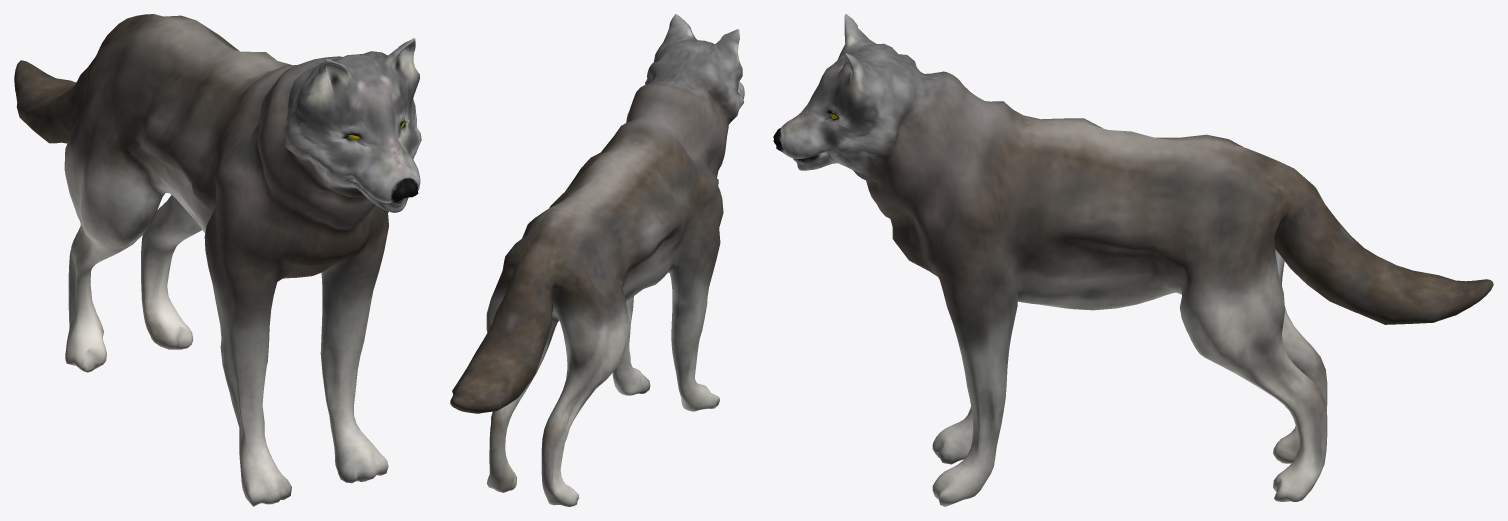
File: wolf.obj
The picture shows the model from 3 angles, left to right: view 1: azimuth 30°, elevation 25°; view 2: azimuth 150°, elevation 25°; view 3: azimuth 270°, elevation 25°; orthographic projection. The views are drawn at different scales.
Visible parts, largest first — view 1: wolf_Group50196; view 2: wolf_Group50196; view 3: wolf_Group50196.
Part boxes in pixels (x1=…): wolf_Group50196: x1=14, y1=14, x2=421, y2=506; wolf_Group50196: x1=450, y1=14, x2=744, y2=506; wolf_Group50196: x1=773, y1=14, x2=1493, y2=506.
Size of the model in its own units: 2.16 by 5.71 by 8.34.
